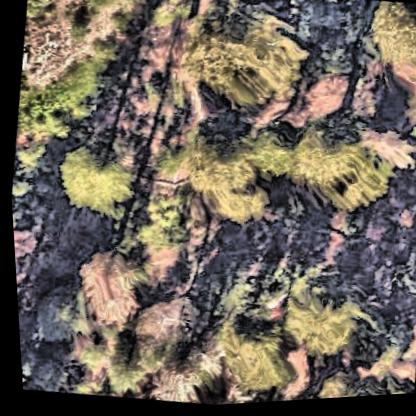tree-top: (173, 0, 310, 132), (259, 109, 395, 225), (269, 268, 373, 372), (47, 132, 141, 225), (13, 56, 101, 150), (178, 119, 265, 209), (204, 320, 291, 407), (67, 245, 147, 331), (86, 324, 169, 405), (126, 181, 208, 260), (132, 287, 200, 363), (361, 3, 416, 82), (348, 112, 414, 173), (208, 180, 273, 240), (306, 364, 398, 403), (23, 0, 61, 30), (78, 0, 129, 16), (261, 393, 323, 405)
